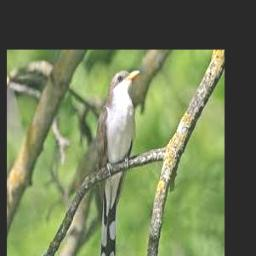Cuckoo: (94, 69, 140, 256)
